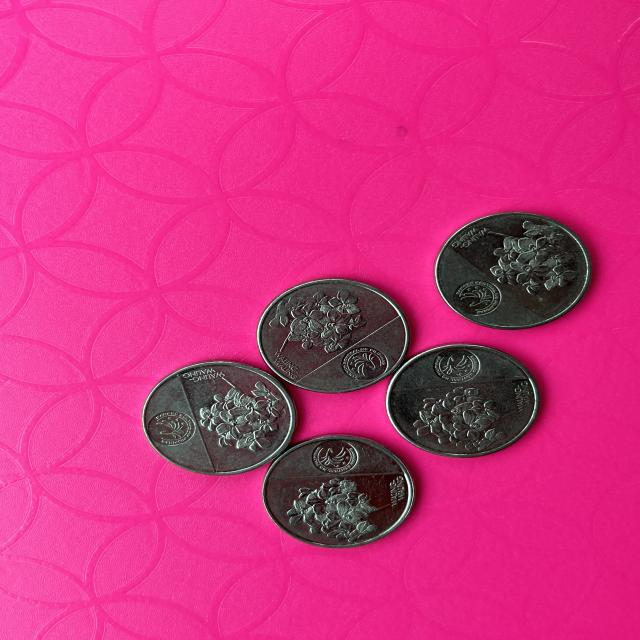1_New_Back: (478, 215, 582, 296), (413, 388, 517, 453), (193, 379, 292, 441), (285, 482, 389, 539), (271, 289, 360, 349)
